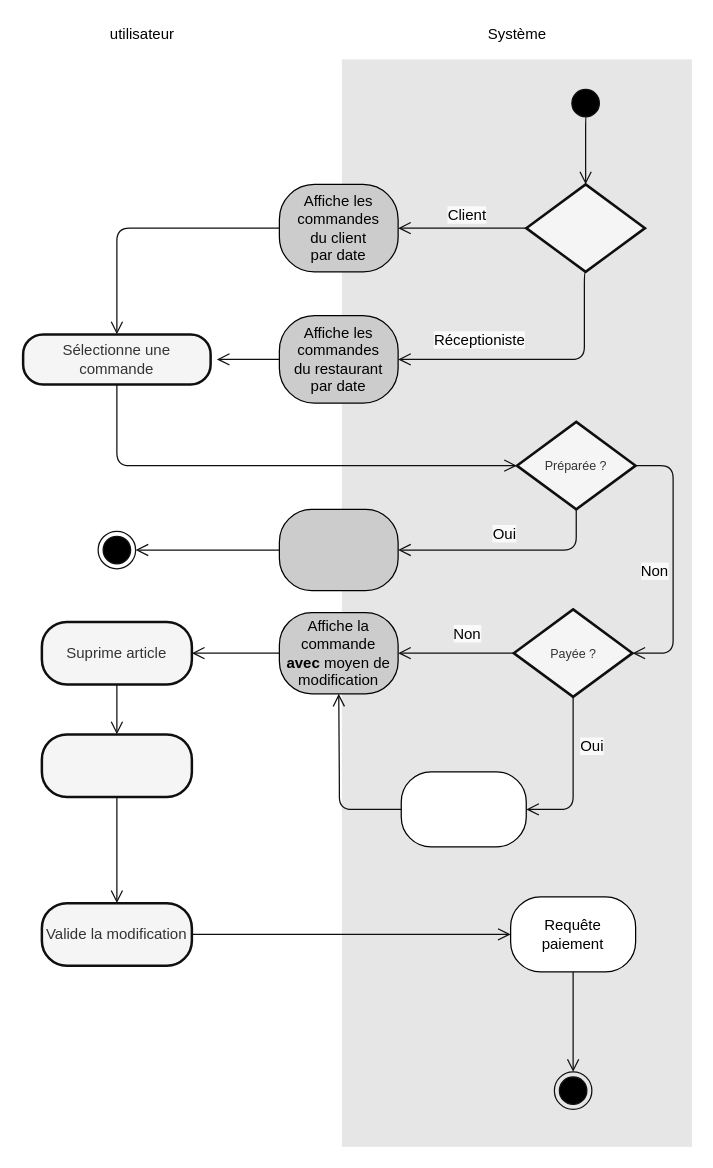
This 713x1168 diagram has some shape labels left out. Each missing label, with the centre of its shape:
Affiche la commande sans moyen de modification: the point at 338,549
Ajoute article: the point at 116,765
Annuler le paiement: the point at 463,809
Type d'utilisateur: the point at 585,227
